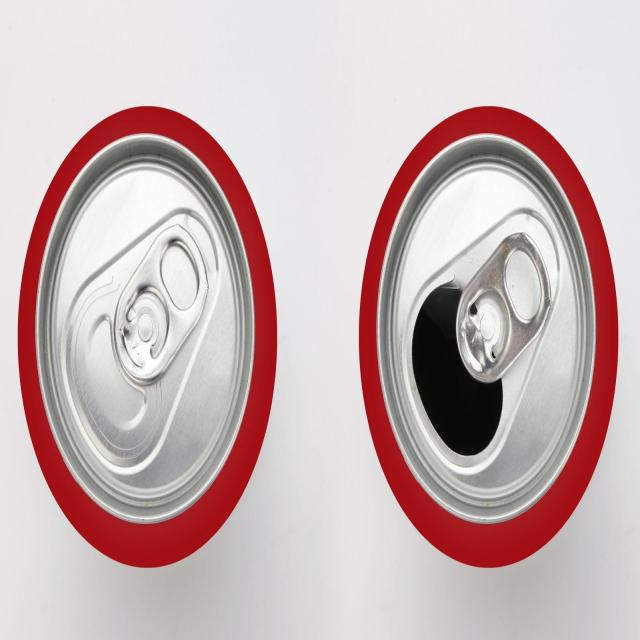can: (32, 129, 256, 524), (378, 132, 598, 526)
pop tab: (110, 225, 210, 390), (457, 225, 551, 384)
